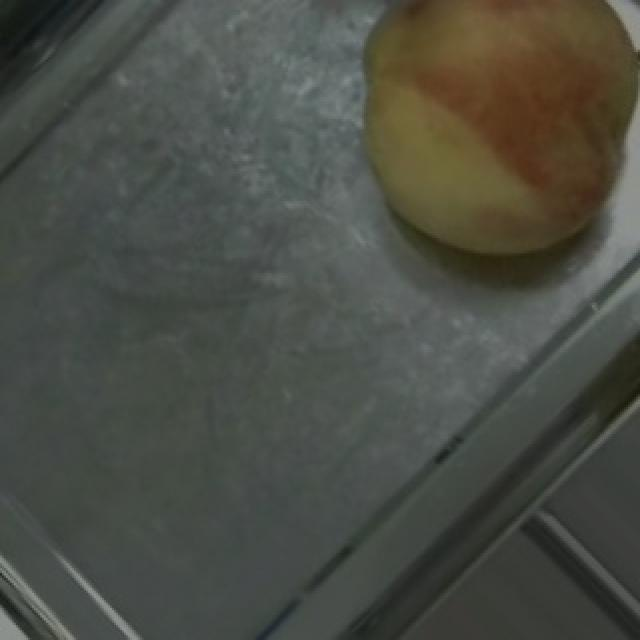Fruit: (324, 0, 640, 303)
